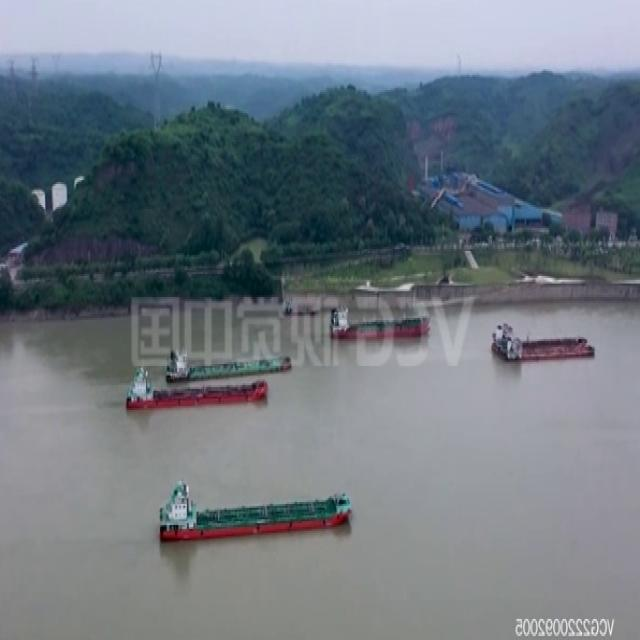cargoship: (157, 481, 352, 545), (125, 366, 268, 411), (163, 337, 293, 384), (493, 315, 593, 364), (328, 296, 431, 341), (280, 290, 321, 317)
